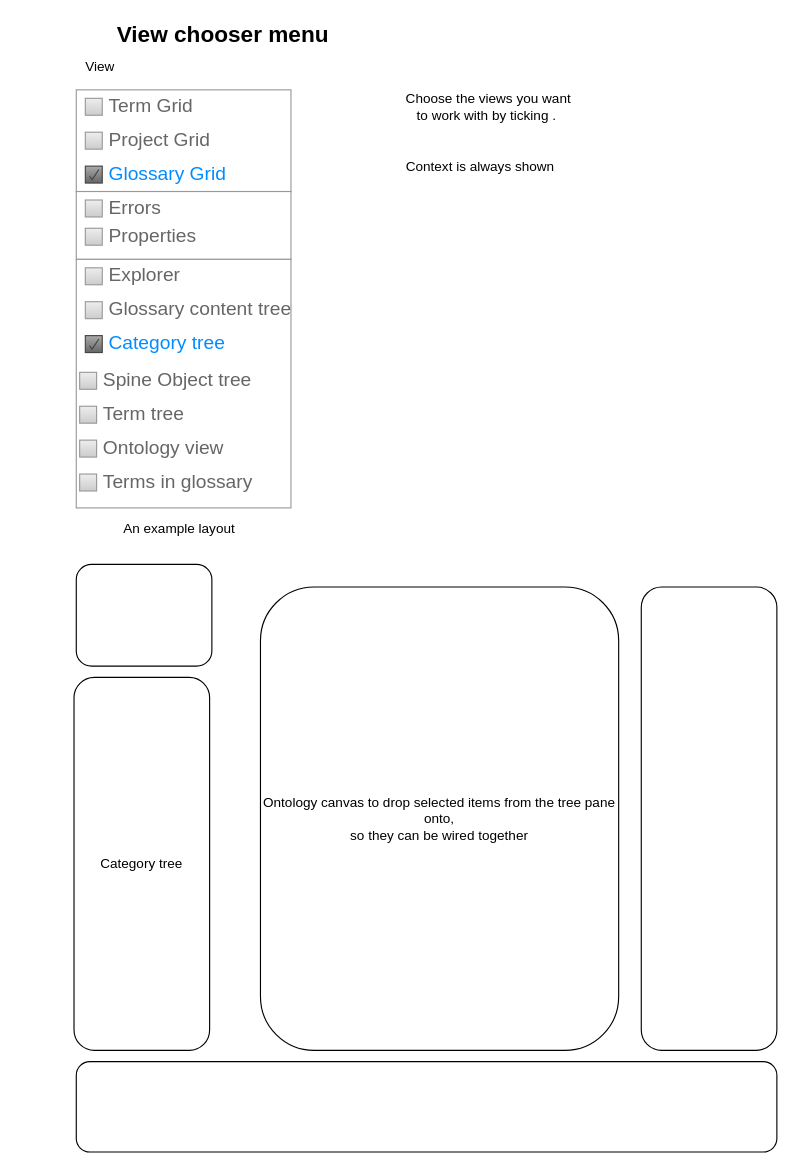
This 797x1172 diagram has some shape labels left out. The shapes that lost their labels are listed below. From the top down, each one's centre as x and y in pixels, then its label:
At point 143,614: "context".
At point 708,818: "property pane showing the properties of what ever is selected".
At point 426,1106: "Error view".
